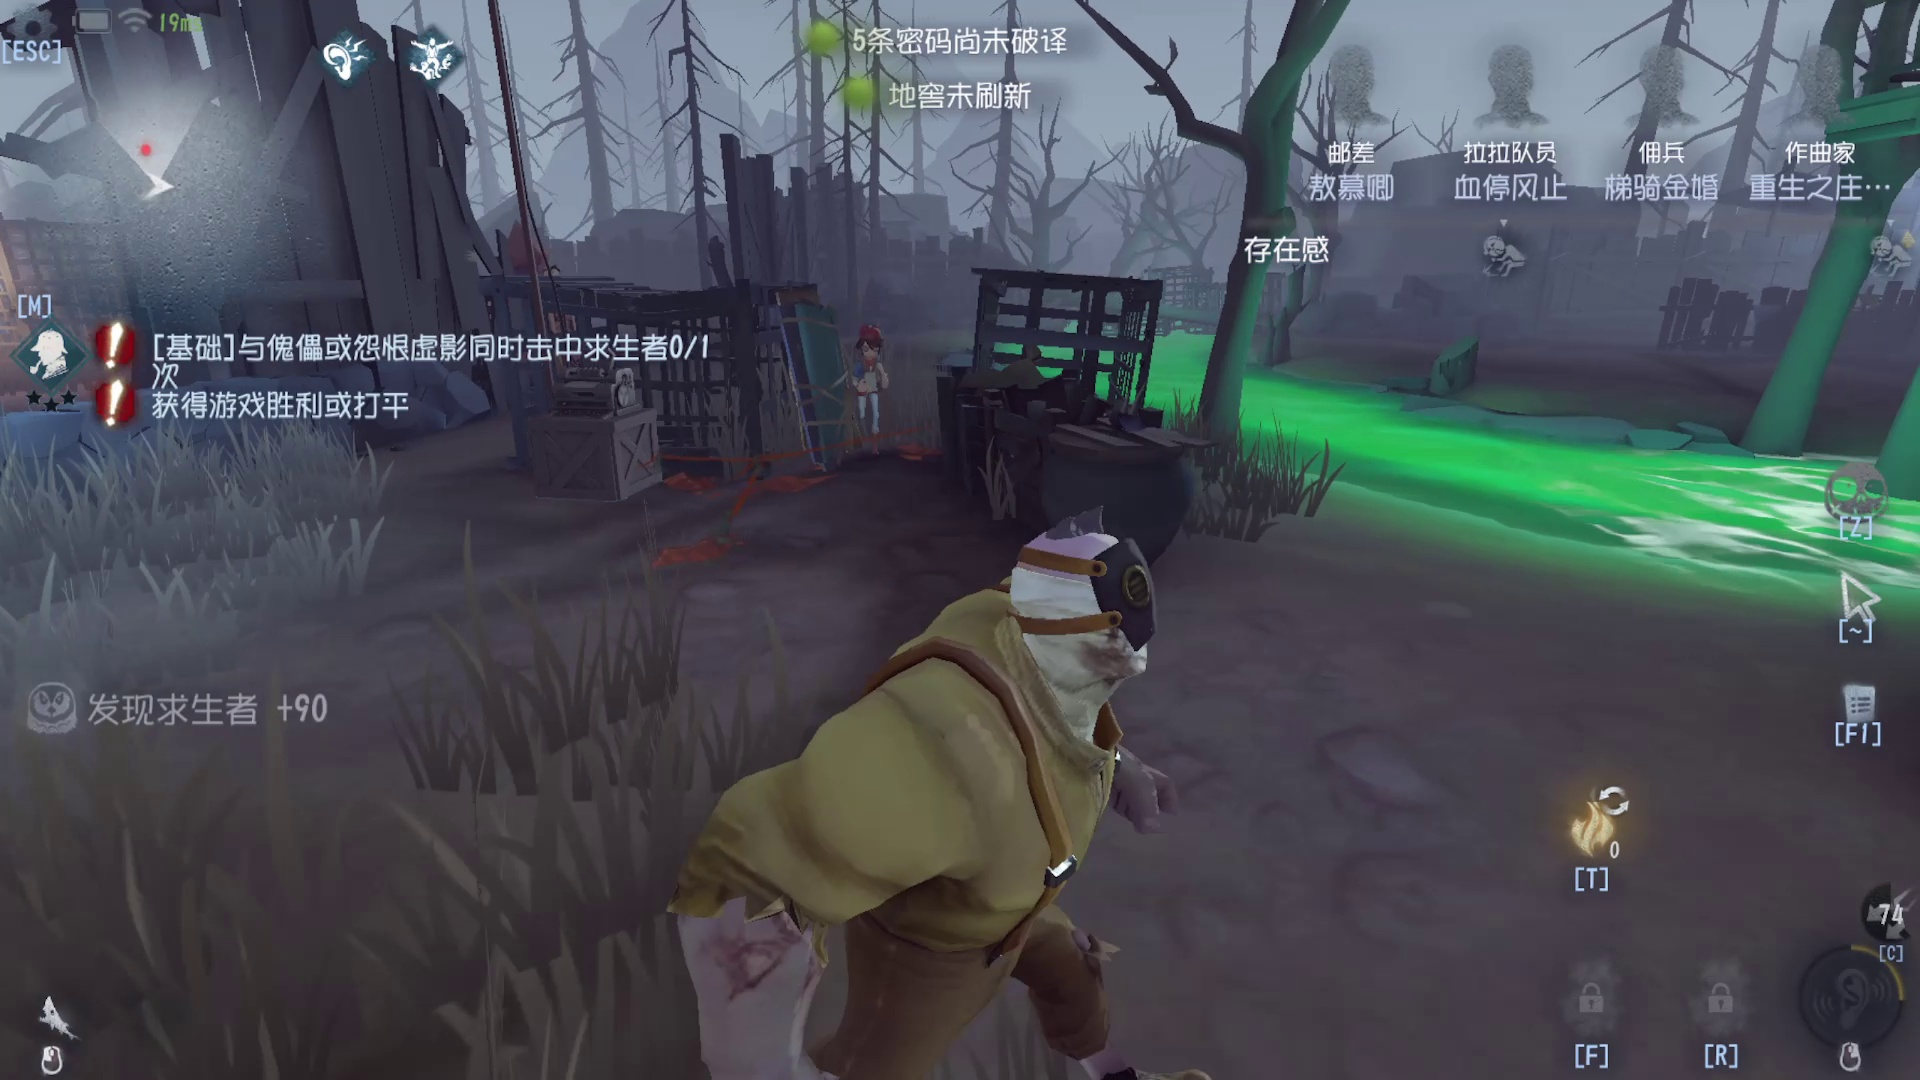密码机: (487, 183, 680, 524)
木板: (749, 272, 858, 484)
求生者: (855, 313, 914, 451)
